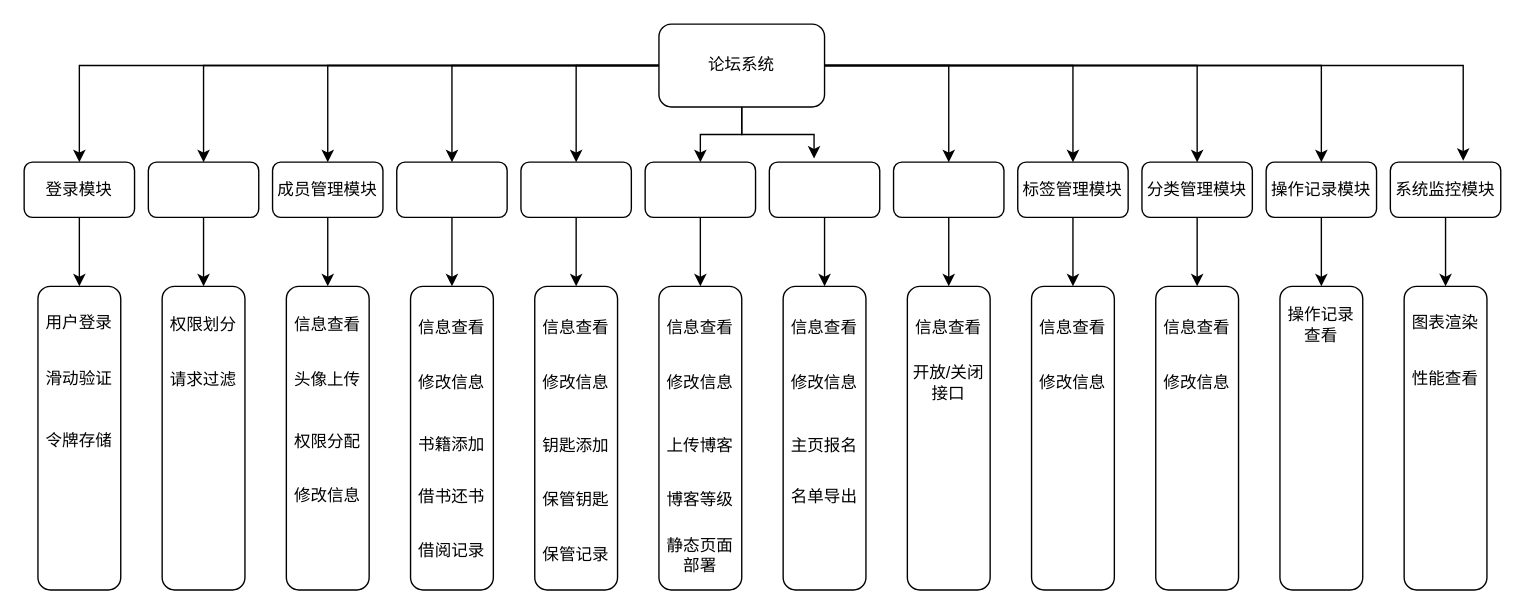
The diagram is 1525 pixels wide and 614 high, and some of its shapes have lost their labels. Each missing label, with the box of its shape:
书籍管理模块: (395, 161, 507, 217)
博客管理模块: (644, 161, 756, 217)
报名管理模块: (768, 161, 880, 217)
接口管理模块: (892, 161, 1004, 217)
权限模块: (147, 161, 259, 217)
钥匙管理模块: (520, 161, 631, 217)
